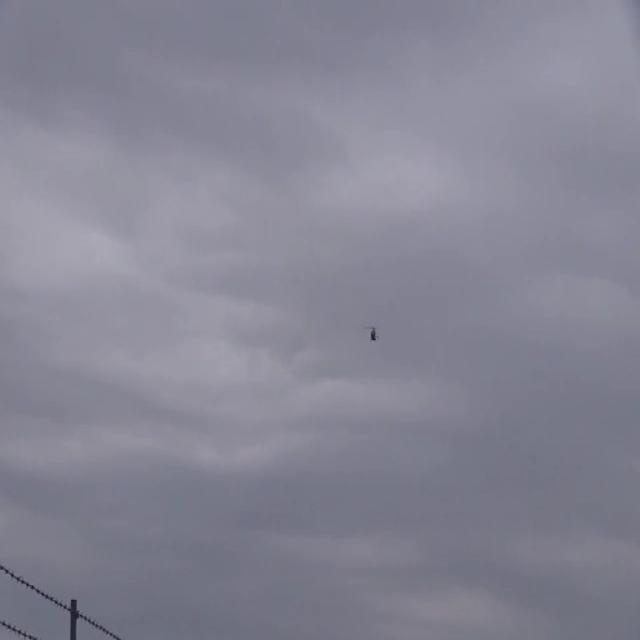Helicopter: (354, 312, 396, 356)
